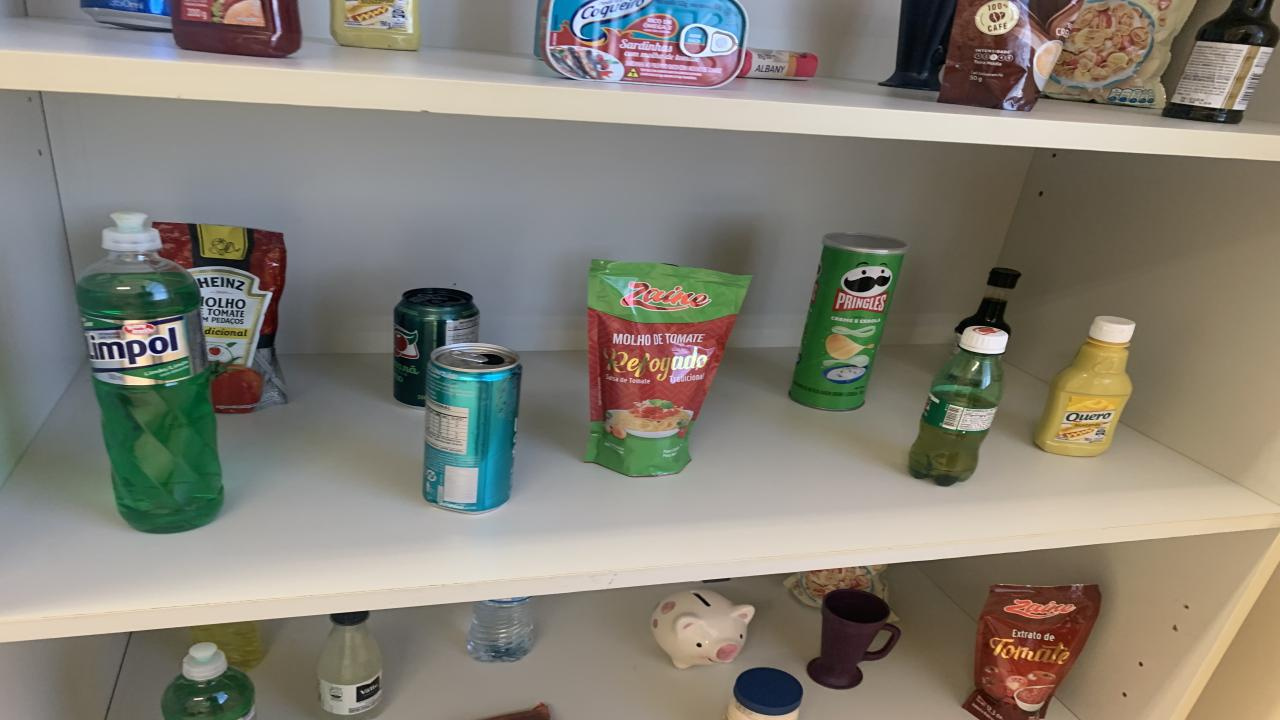Coffee-Pantry_Items: (938, 0, 1082, 111)
Detergent-Cleanup_Items: (75, 212, 222, 532), (160, 641, 255, 720), (192, 621, 262, 671)
English_Sauce-Pantry_Items: (1162, 0, 1280, 124), (955, 268, 1020, 345)
Flakes-Snacks: (1042, 0, 1195, 109), (782, 564, 888, 608)
Guarana-Drinks: (910, 326, 1008, 486)
Guarana_Can-Drinks: (392, 287, 480, 407)
Ketchup-Pantry_Items: (170, 0, 302, 58)
Mayonnaise-Pantry_Items: (728, 668, 802, 720)
Mustard-Pantry_Items: (1035, 317, 1135, 456), (330, 0, 420, 51)
Pig_Safe-Miscellaneous: (652, 589, 755, 669)
Pringles-Snacks: (790, 232, 905, 411)
Soap-Cleanup_Items: (738, 49, 818, 81)
Soda-Drinks: (318, 611, 382, 718)
Tea-Drinks: (422, 343, 522, 514)
Tomato_Sauce-Pantry_Items: (585, 261, 750, 476), (155, 223, 288, 412), (962, 585, 1100, 718)
Tonic-Drinks: (80, 0, 172, 30)
Tuna_Can-Pantry_Items: (538, 0, 748, 88)
Water_Bottle-Drinks: (468, 596, 532, 662)
